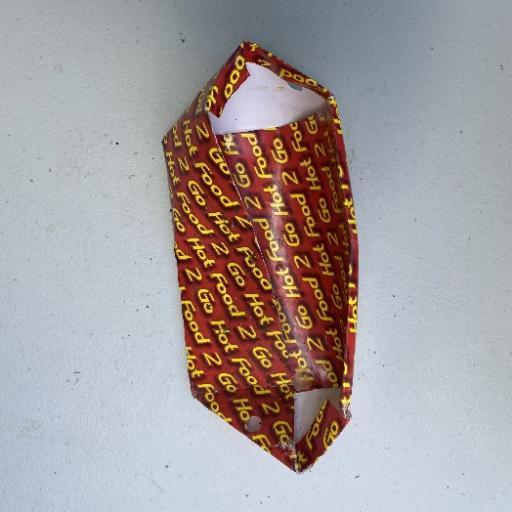Cardboard: (159, 40, 361, 475)
